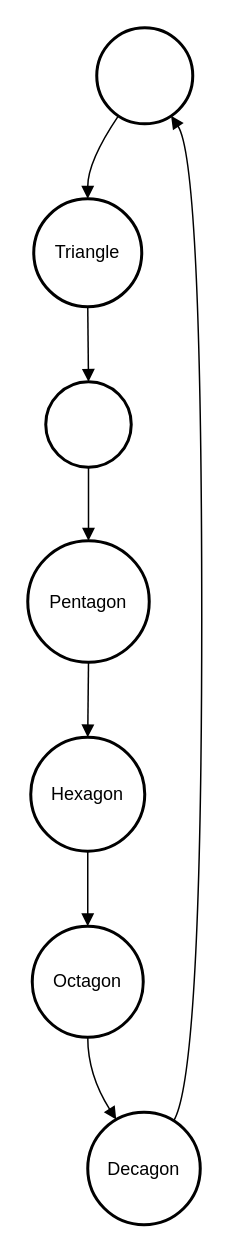
Image size: 228x1251. Some labels were removed from this diagram. The box of each missing label's shape, as (x1, y1, x2, y2) in pixels:
Circle: (44, 380, 132, 468)
Square: (94, 26, 194, 124)
